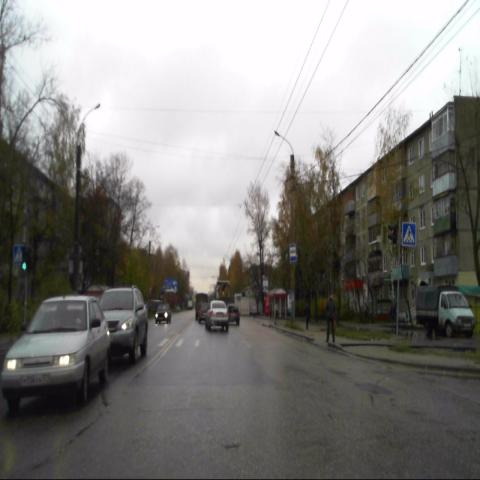5_16: (289, 243, 296, 261)
5_19_1: (401, 219, 418, 248), (12, 245, 24, 265)
